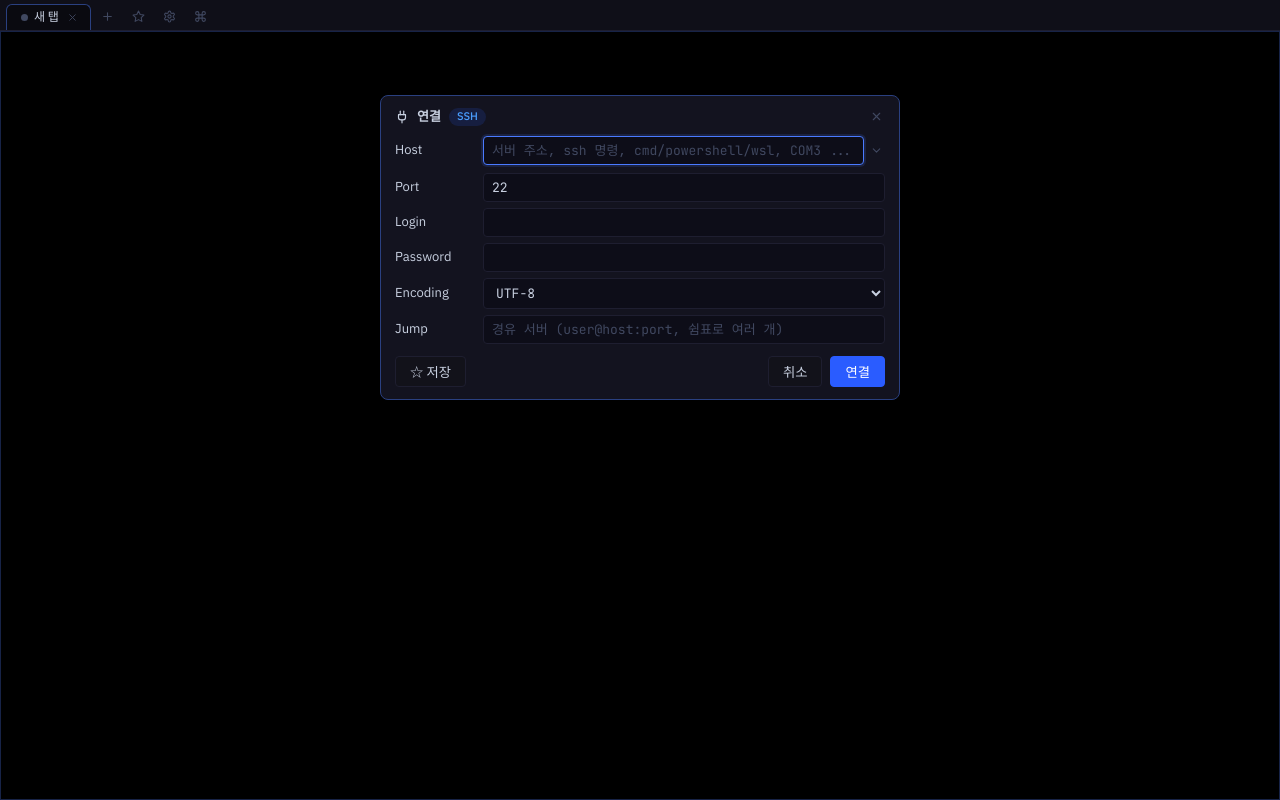
Test case: 원격 파일 창 (RFV) › RFV-06: 파일 패널 폴더로 받기 → FileDownloadTo, 패널 새로 고침
In the field labelled "Host": [674, 150] box [483,136,864,165], type "srv"
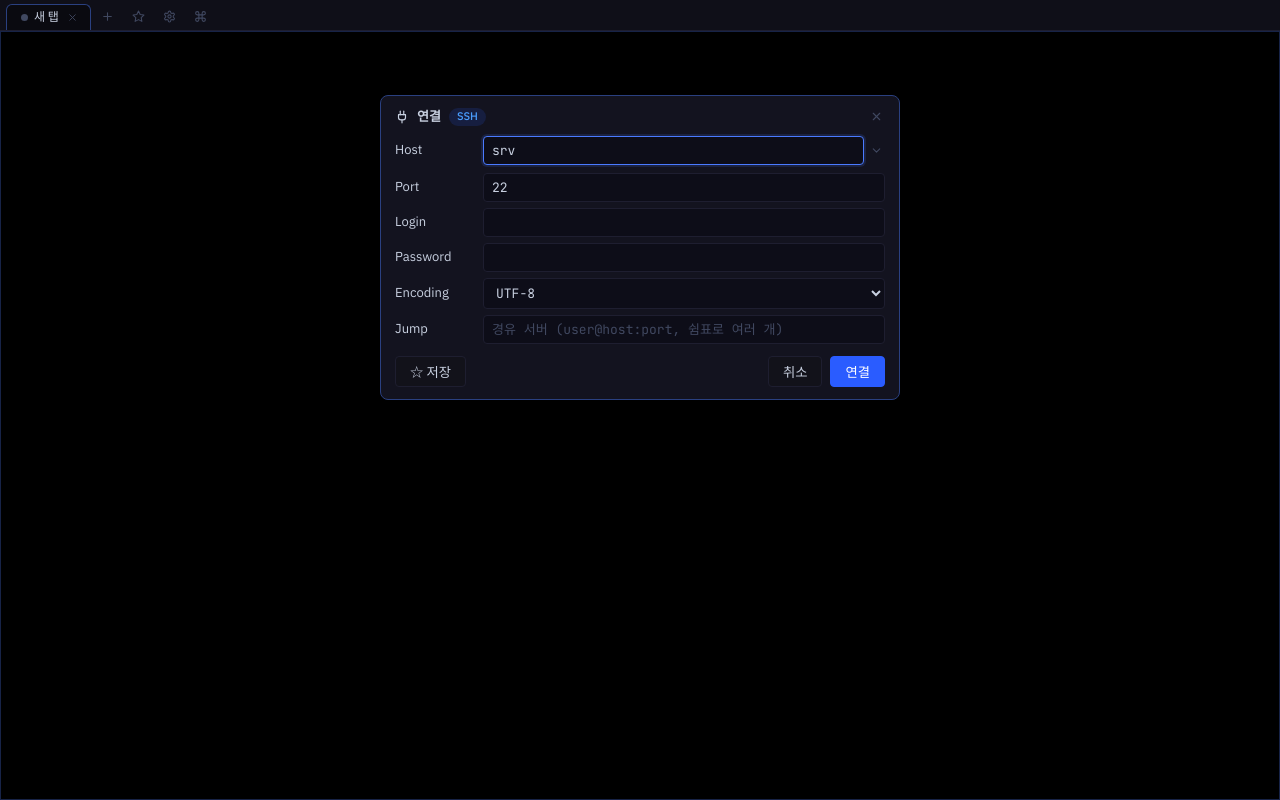
Submit the form labelled "Host", box [380,95,900,400]
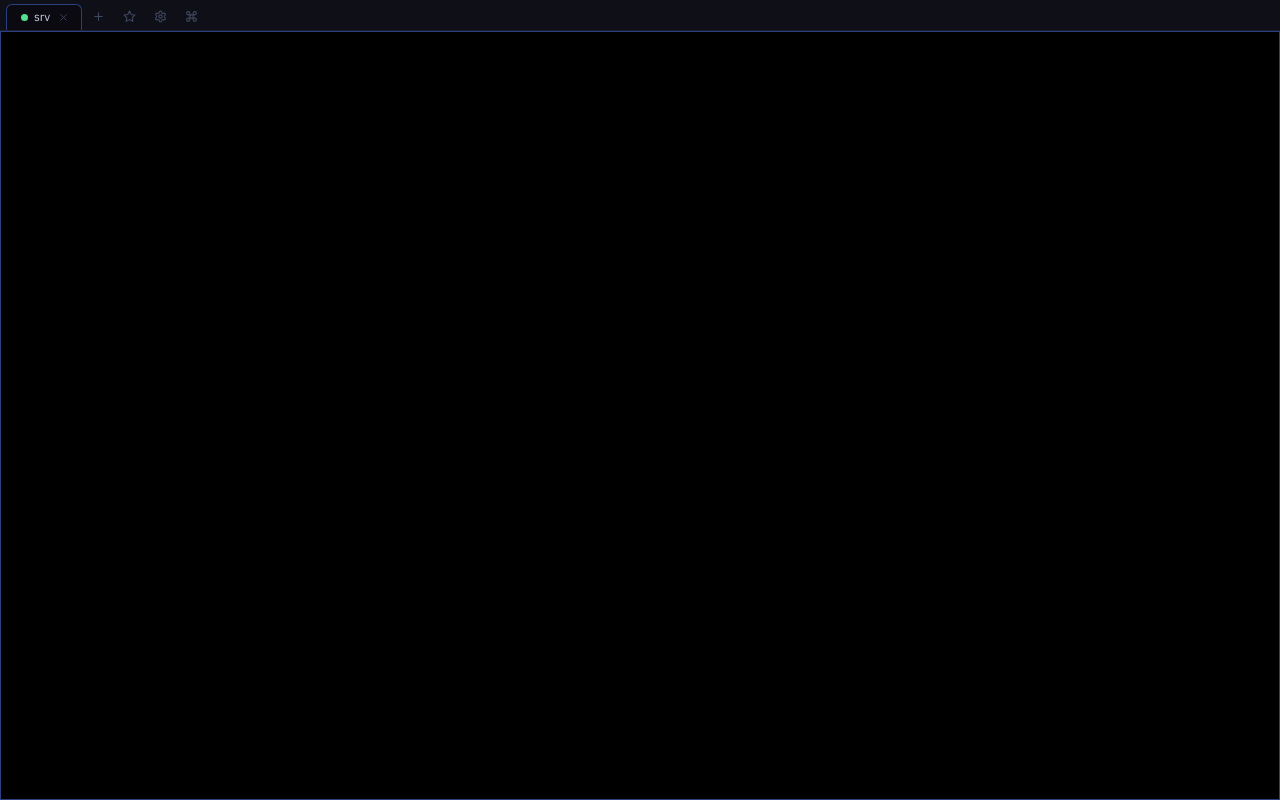
Result: the label labelled "Host" is gone
Press F in the element showing "srv"
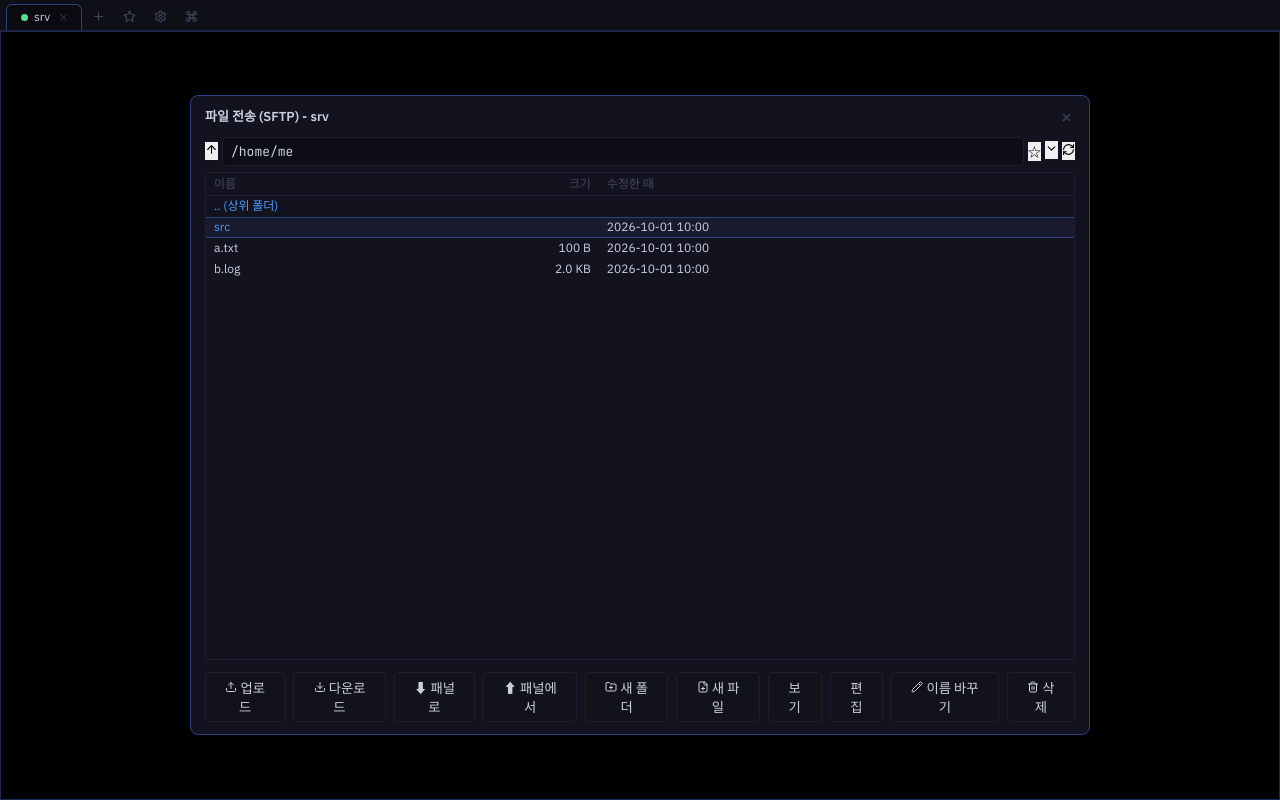
Press the mouse on the row "a.txt 100 B 2026-10-01 10:00": [640, 248] box [206,238,1074,259]
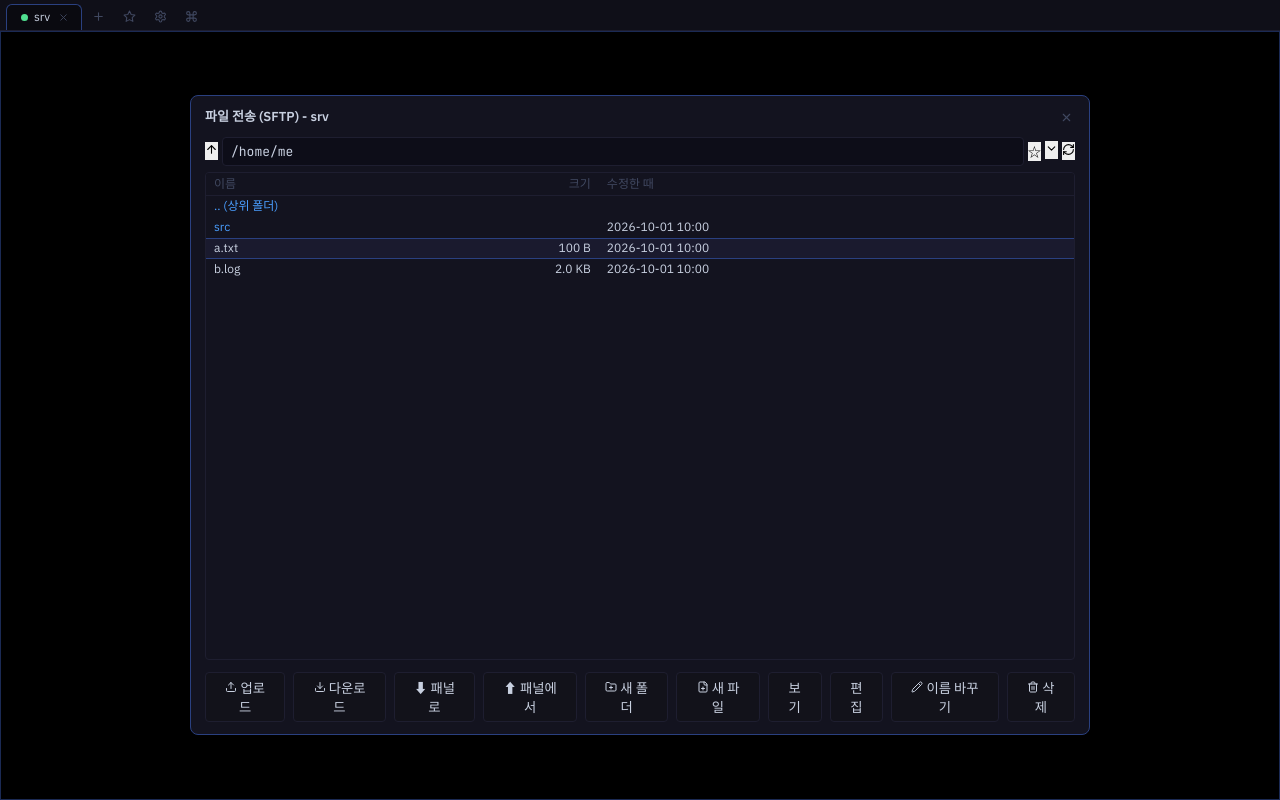
Click the button "⬇ 패널로": [434, 697] box [394,672,475,722]
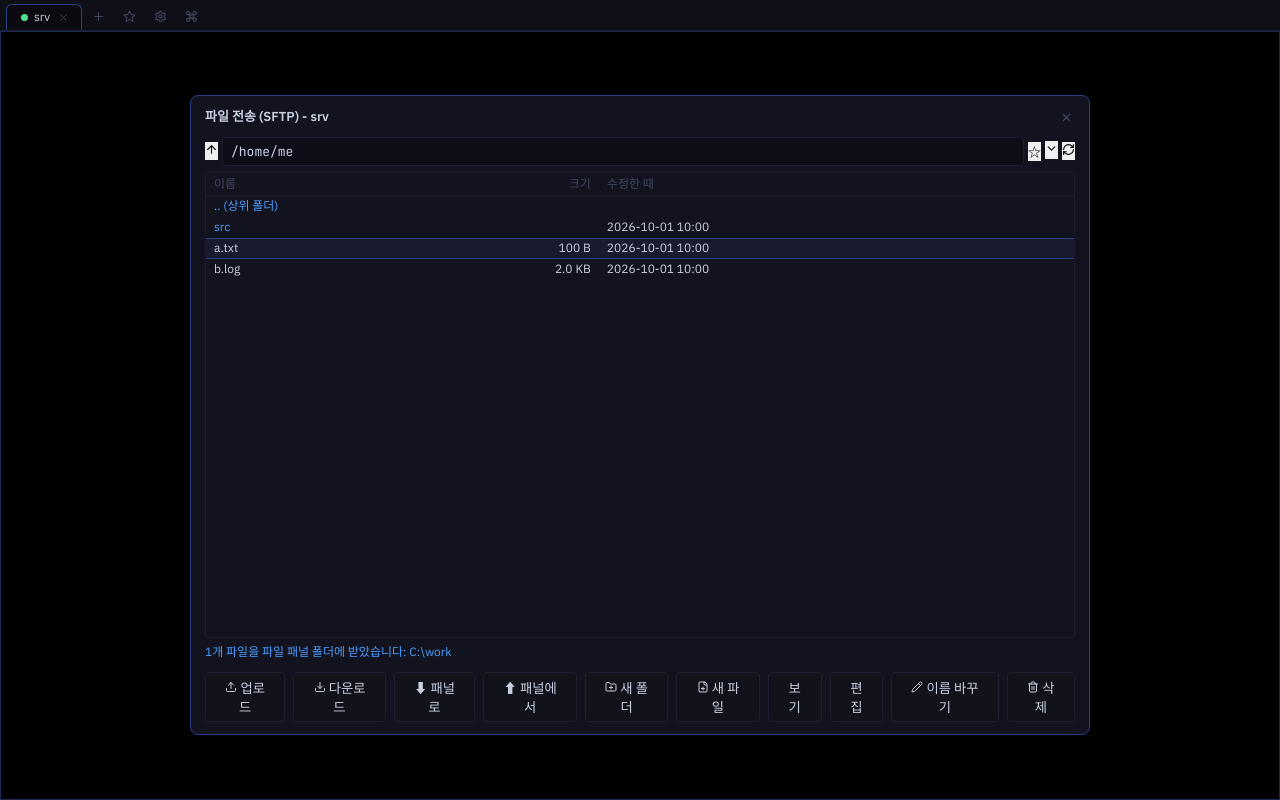
Result: the message reads "1개 파일을 파일 패널 폴더에 받았습니다: C:\\work" at [205,644,452,659]
